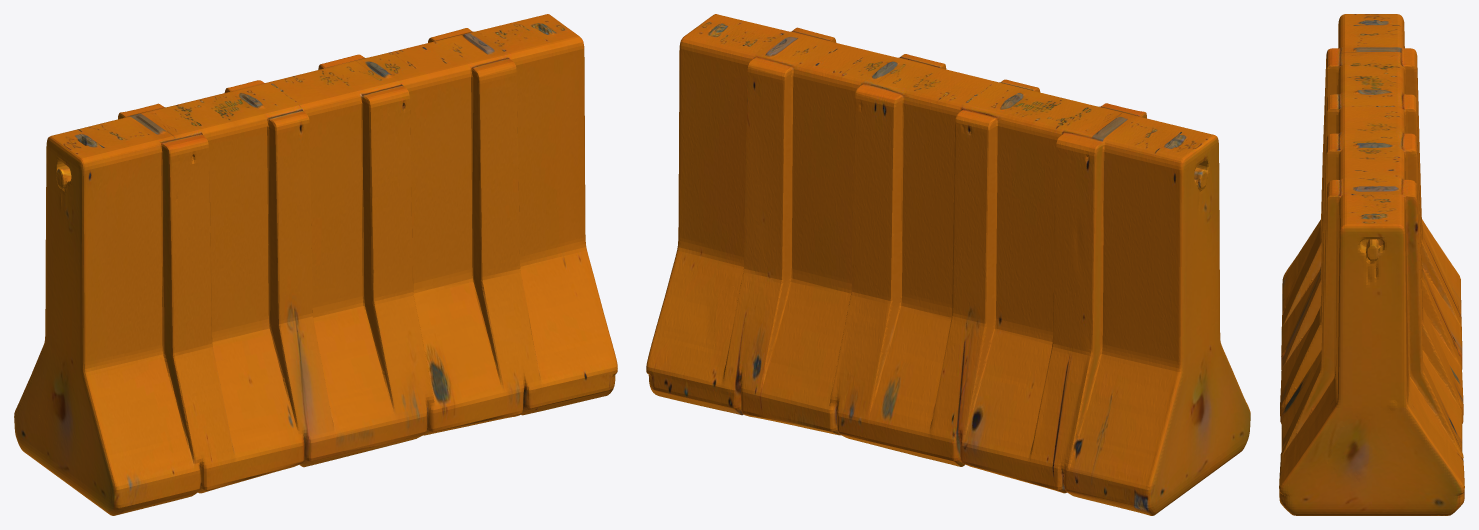
Rendered from barrier_C.glb.
The picture shows the model from 3 angles, left to right: view 1: azimuth 30°, elevation 25°; view 2: azimuth 150°, elevation 25°; view 3: azimuth 270°, elevation 25°; orthographic projection. The views are drawn at different scales.
Parts seen in each view (by area): view 1: safety_barriers; view 2: safety_barriers; view 3: safety_barriers.
Part boxes in pixels (box(x1,y1,x2,y2)): safety_barriers: box(14, 14, 617, 515); safety_barriers: box(646, 14, 1250, 515); safety_barriers: box(1279, 14, 1464, 515).
Bounding box in the file's own units: 2.5 × 1.6 × 0.9106.
Materials: 1 (1 with a texture image).
